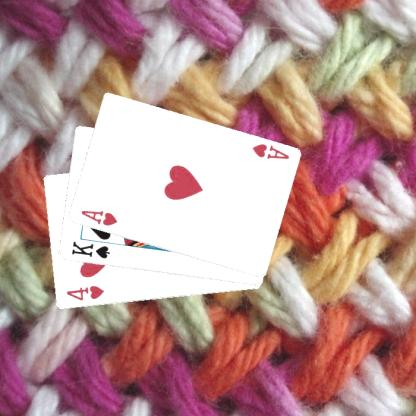4H: (64, 283, 104, 302)
AH: (78, 207, 118, 228), (249, 141, 291, 161)
KS: (68, 239, 111, 260)
